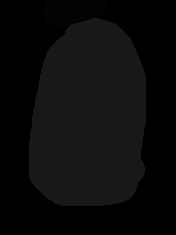fp: (24, 17, 148, 217)
